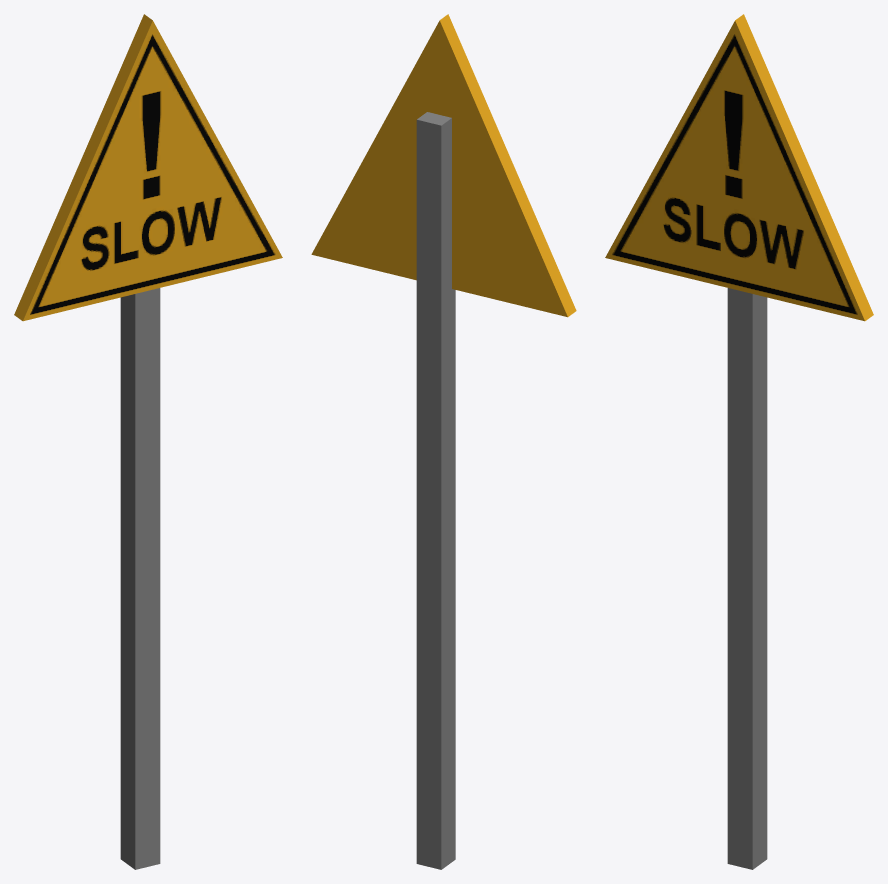
File: prop_speedsignwarning.fbx
3 views of the same model, side by side, from view 1: azimuth 30°, elevation 25°; view 2: azimuth 150°, elevation 25°; view 3: azimuth 330°, elevation 25° (orthographic).
Visible parts, largest first — view 1: prop_speedsignwarning; view 2: prop_speedsignwarning; view 3: prop_speedsignwarning.
Part boxes in pixels (left/top/right/bottom): prop_speedsignwarning: left=14, top=14, right=282, bottom=869; prop_speedsignwarning: left=311, top=14, right=576, bottom=869; prop_speedsignwarning: left=605, top=14, right=873, bottom=869.
Size of the model in its own units: 12.76 by 39.86 by 1.66.
